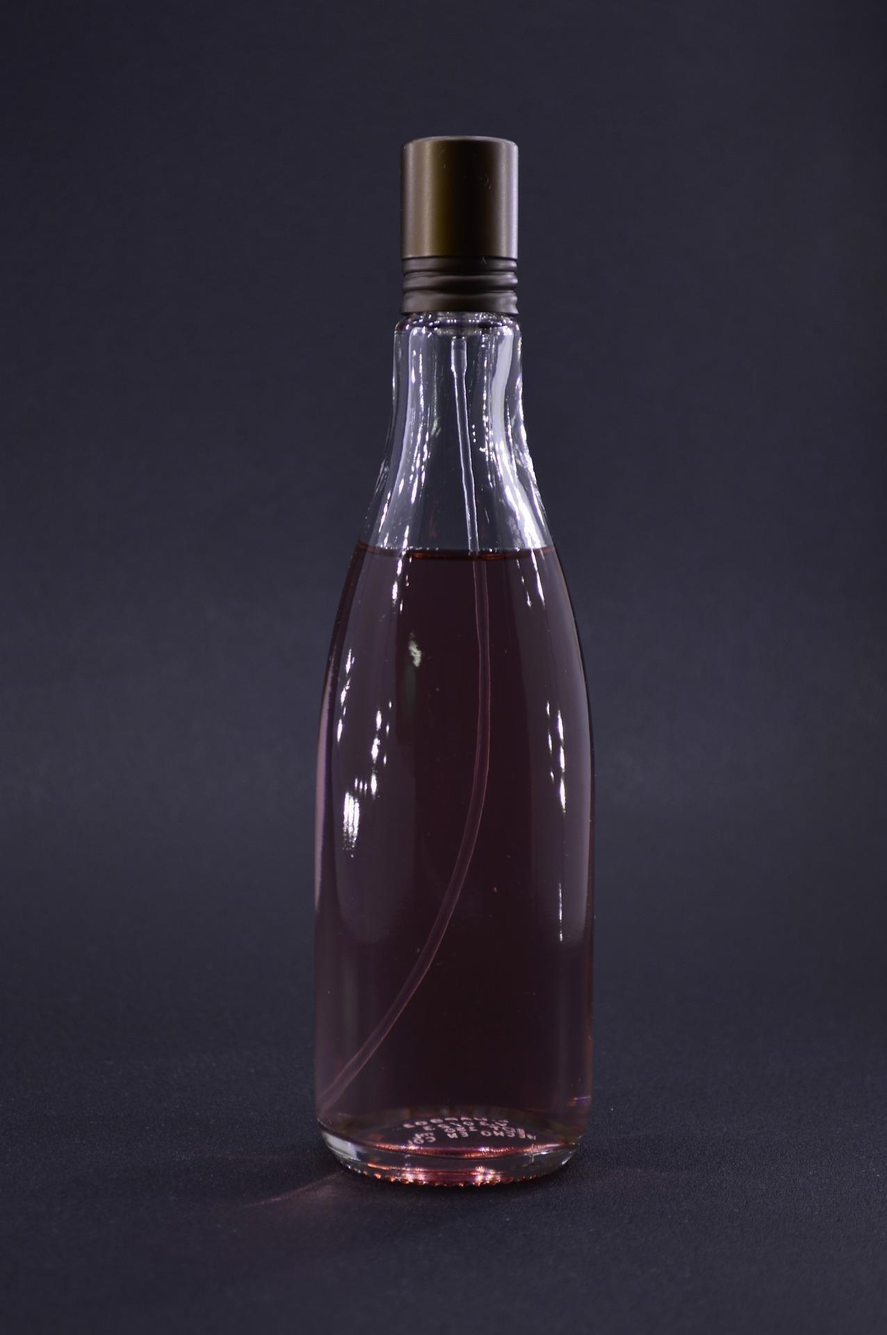bottle-glass: (297, 123, 608, 1209)
